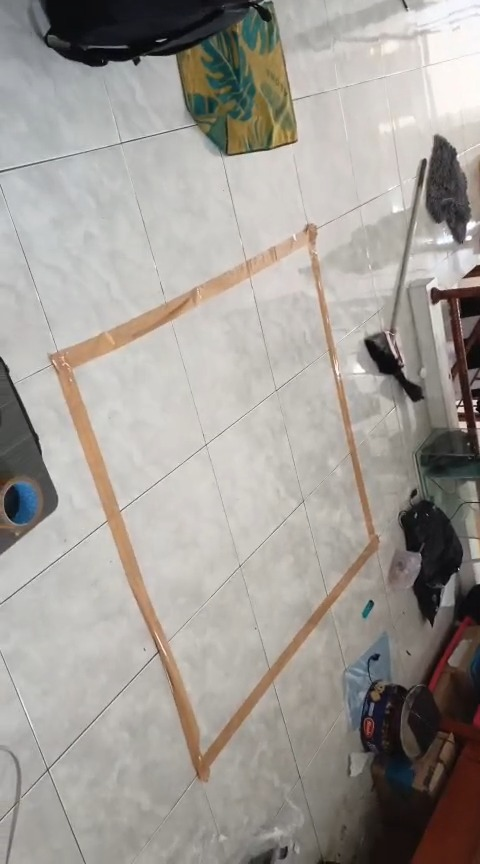floor marking: (51, 224, 378, 781)
